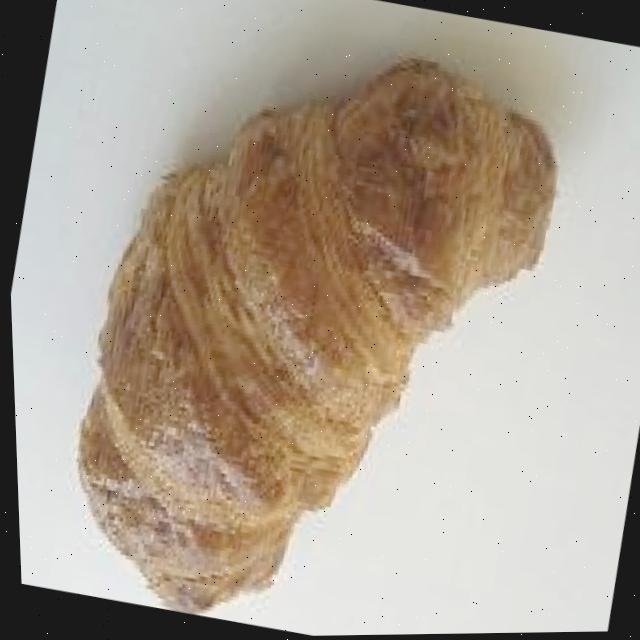面包点心: (6, 0, 610, 640)
